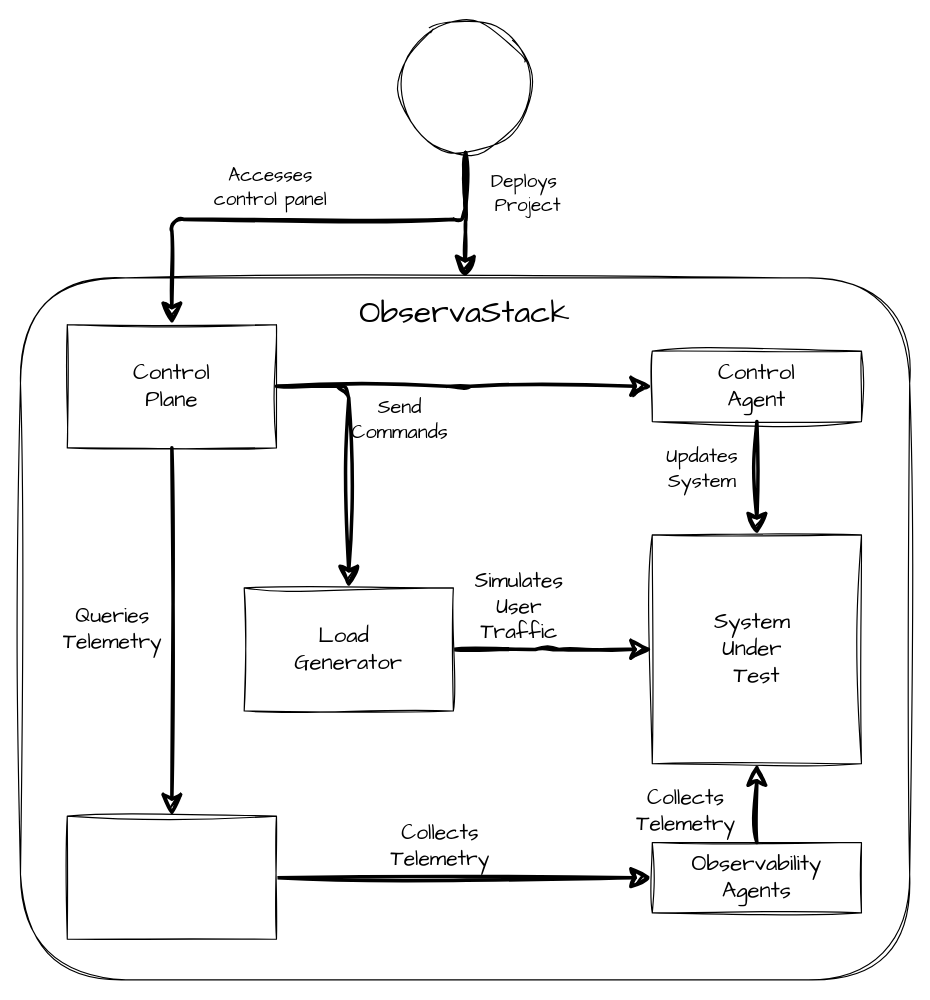
The diagram is 930 pixels wide and 1000 high, and some of its shapes have lost their labels. The shapes that lost their labels are listed below. From the top down, each one's centre as x and y in pixels, then its label:
(465,86): User
(171,877): Observability Stack
